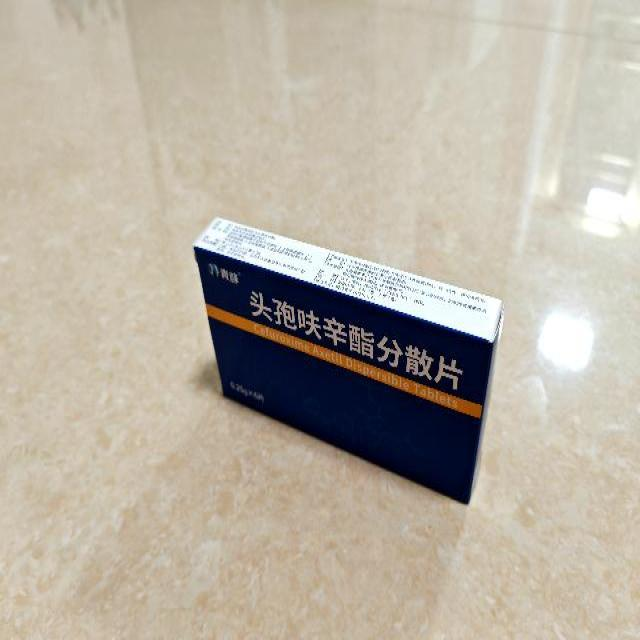box: (193, 214, 504, 506)
